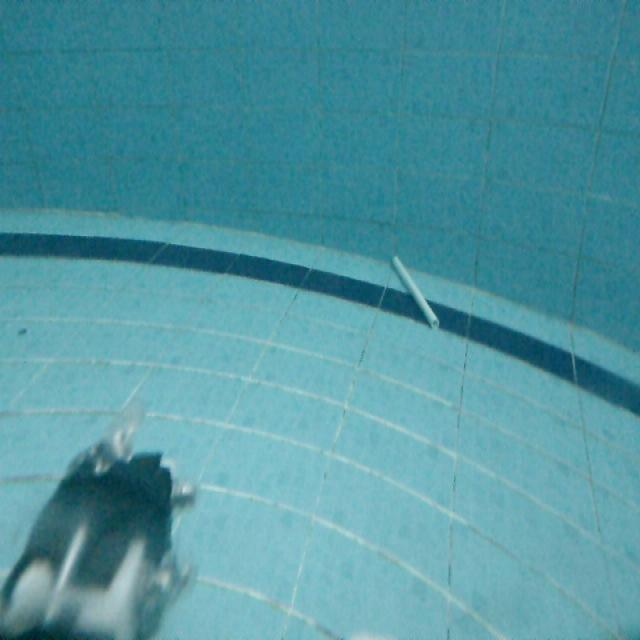Cube: (389, 251, 442, 335)
